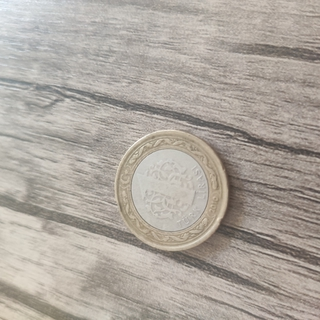1TL: (112, 127, 231, 253)
